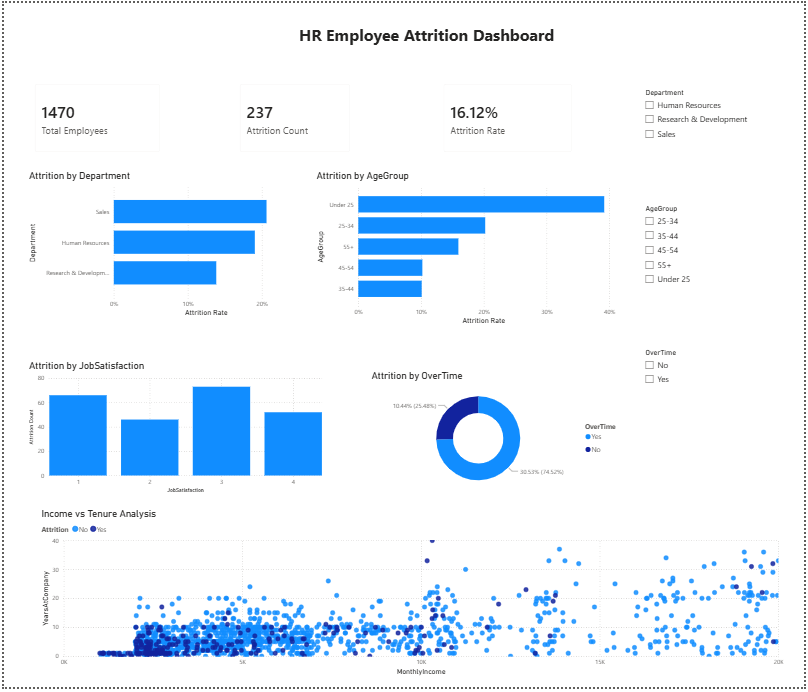

The dashboard page shown, as its layout file describes it:
{"tool":"powerbi","page":{"name":"Page 1","canvas":[1600,1368],"ordinal":0},"visuals":[{"type":"textbox","box":[70,38,1320,106],"z":0},{"type":"cardVisual","fields":{"Data":["WA_Fn-UseC_-HR-Employee-Attrition.Attrition Count"]},"box":[454,144,254,170],"z":1000},{"type":"clusteredBarChart","title":"Attrition  by Department","fields":{"Category":["WA_Fn-UseC_-HR-Employee-Attrition.Department"],"Y":["WA_Fn-UseC_-HR-Employee-Attrition.Attrition Rate"]},"box":[44,336,562,298],"z":2000},{"type":"clusteredBarChart","title":"Attrition by AgeGroup","fields":{"Category":["WA_Fn-UseC_-HR-Employee-Attrition.AgeGroup"],"Y":["WA_Fn-UseC_-HR-Employee-Attrition.Attrition Rate"]},"box":[620,336,608,314],"z":3000},{"type":"donutChart","title":"Attrition by OverTime","fields":{"Category":["WA_Fn-UseC_-HR-Employee-Attrition.OverTime"],"Y":["WA_Fn-UseC_-HR-Employee-Attrition.Attrition Rate"]},"box":[730,734,516,250],"z":4000},{"type":"cardVisual","fields":{"Data":["WA_Fn-UseC_-HR-Employee-Attrition.Total Employees"]},"box":[44,144,284,170],"z":5000},{"type":"cardVisual","fields":{"Data":["WA_Fn-UseC_-HR-Employee-Attrition.Attrition Rate"]},"box":[862,144,290,170],"z":6000},{"type":"slicer","fields":{"Values":["WA_Fn-UseC_-HR-Employee-Attrition.Department"]},"box":[1270,165,330,170],"z":7000},{"type":"slicer","fields":{"Values":["WA_Fn-UseC_-HR-Employee-Attrition.AgeGroup"]},"box":[1270,397.5,330,190],"z":8000},{"type":"slicer","fields":{"Values":["WA_Fn-UseC_-HR-Employee-Attrition.OverTime"]},"box":[1270,685,330,190],"z":9000},{"type":"clusteredColumnChart","title":"Attrition by JobSatisfaction","fields":{"Y":["WA_Fn-UseC_-HR-Employee-Attrition.Attrition Count"],"Category":["WA_Fn-UseC_-HR-Employee-Attrition.JobSatisfaction"]},"box":[44,714,596,270],"z":10000},{"type":"scatterChart","title":"Income vs Tenure Analysis","fields":{"Series":["WA_Fn-UseC_-HR-Employee-Attrition.Attrition"],"X":["WA_Fn-UseC_-HR-Employee-Attrition.MonthlyIncome"],"Y":["WA_Fn-UseC_-HR-Employee-Attrition.YearsAtCompany"]},"box":[70,1010,1494,340],"z":11000}]}

Visuals, with their boxes in screenshot pixels (x1, y1, x2, y2), scaled from the page's 1600x1368 canvas onto the 808x692 screenshot:
textbox: bbox=(35, 19, 702, 73)
cardVisual - WA_Fn-UseC_-HR-Employee-Attrition.Attrition Count: bbox=(229, 73, 358, 159)
"Attrition  by Department" clusteredBarChart: bbox=(22, 170, 306, 321)
"Attrition by AgeGroup" clusteredBarChart: bbox=(313, 170, 620, 329)
"Attrition by OverTime" donutChart: bbox=(369, 371, 629, 498)
cardVisual - WA_Fn-UseC_-HR-Employee-Attrition.Total Employees: bbox=(22, 73, 166, 159)
cardVisual - WA_Fn-UseC_-HR-Employee-Attrition.Attrition Rate: bbox=(435, 73, 582, 159)
slicer - WA_Fn-UseC_-HR-Employee-Attrition.Department: bbox=(641, 83, 807, 169)
slicer - WA_Fn-UseC_-HR-Employee-Attrition.AgeGroup: bbox=(641, 201, 807, 297)
slicer - WA_Fn-UseC_-HR-Employee-Attrition.OverTime: bbox=(641, 347, 807, 443)
"Attrition by JobSatisfaction" clusteredColumnChart: bbox=(22, 361, 323, 498)
"Income vs Tenure Analysis" scatterChart: bbox=(35, 511, 790, 683)
